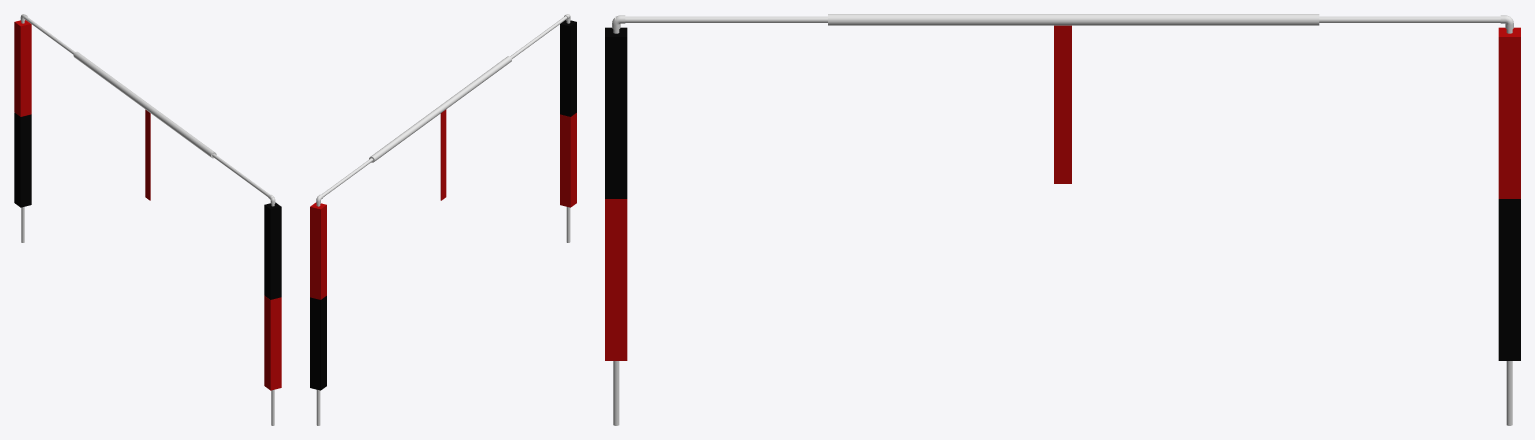
The picture shows the model from 3 angles, left to right: view 1: azimuth 30°, elevation 25°; view 2: azimuth 150°, elevation 25°; view 3: azimuth 270°, elevation 25°; orthographic projection. The views are drawn at different scales.
Visible parts, largest first — view 1: Gate; view 2: Gate; view 3: Gate.
Boxes of the visible parts, x1=… form: Gate: x1=14, y1=14, x2=281, y2=425; Gate: x1=310, y1=14, x2=576, y2=425; Gate: x1=605, y1=14, x2=1520, y2=425.
Bounding box in the file's own units: 0.0762 × 3.12 × 1.54.
